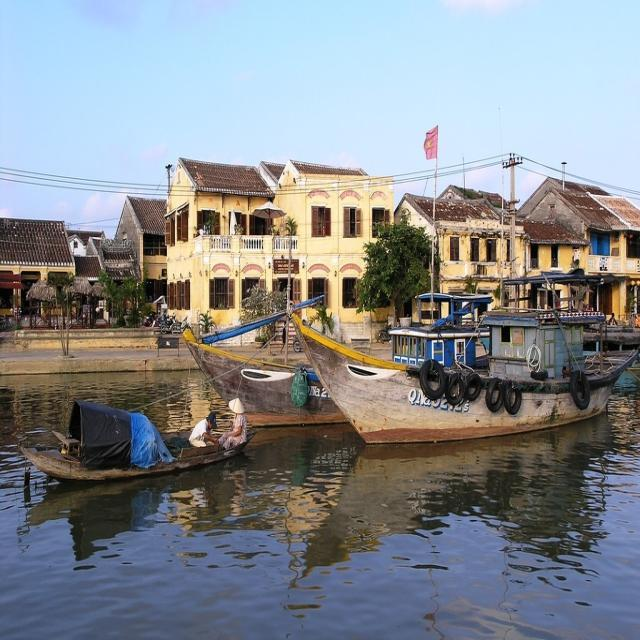boat: (285, 309, 640, 448), (12, 428, 251, 485)
